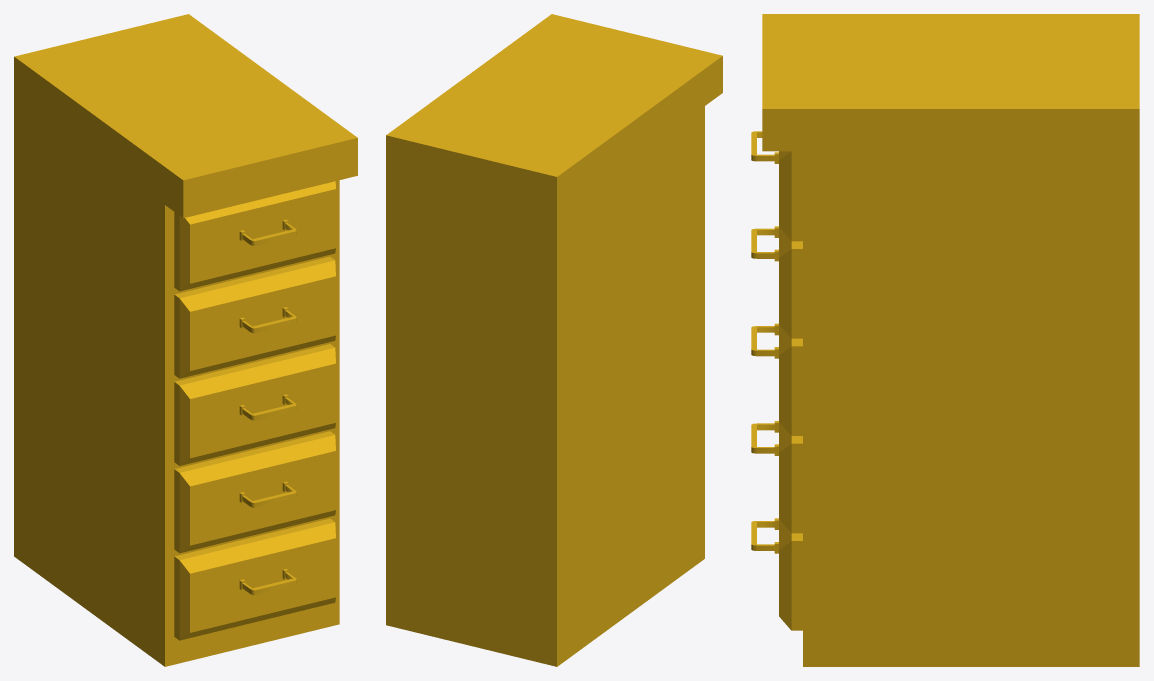
The model's file is CTS_E_CabinetB.fbx.
3 views of the same model, side by side, from view 1: azimuth 30°, elevation 25°; view 2: azimuth 150°, elevation 25°; view 3: azimuth 270°, elevation 25° (orthographic). The views are drawn at different scales.
Visible parts, largest first — view 1: CTS_E_CabinetB; view 2: CTS_E_CabinetB; view 3: CTS_E_CabinetB.
Part boxes in pixels (box(x1,y1,x2,y2)): CTS_E_CabinetB: box(14, 14, 357, 666); CTS_E_CabinetB: box(386, 14, 722, 666); CTS_E_CabinetB: box(751, 14, 1139, 666).
Bounding box in the file's own units: 39.25 × 107 × 67.79.
